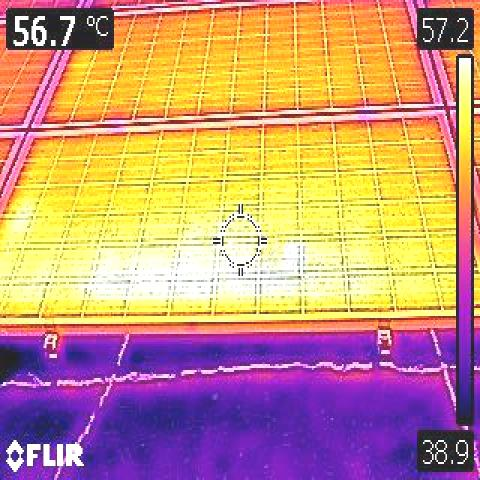fault: (260, 245, 308, 305)
